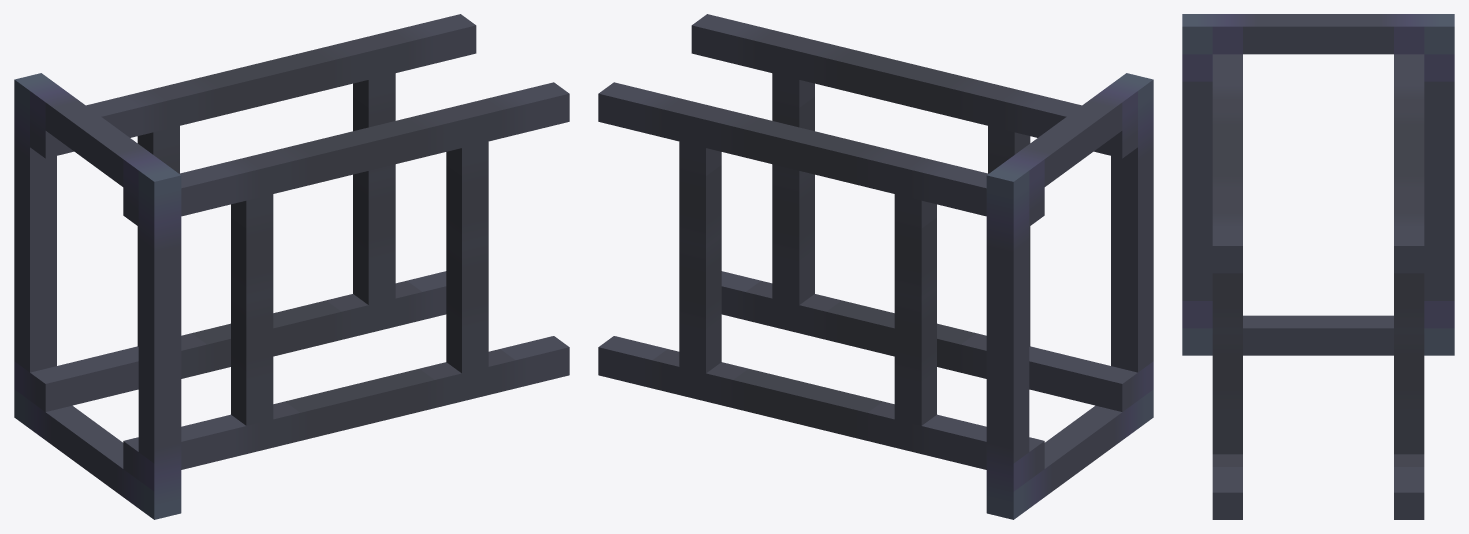
File: Beam_Chunk-1.fbx
3 views of the same model, side by side, from view 1: azimuth 30°, elevation 25°; view 2: azimuth 150°, elevation 25°; view 3: azimuth 270°, elevation 25° (orthographic). The views are drawn at different scales.
Visible parts, largest first — view 1: Beam_Chunk_1; view 2: Beam_Chunk_1; view 3: Beam_Chunk_1.
Boxes of the visible parts, bbox=[...] form: Beam_Chunk_1: bbox=[14, 14, 569, 519]; Beam_Chunk_1: bbox=[598, 14, 1153, 519]; Beam_Chunk_1: bbox=[1182, 14, 1454, 519].
Size of the model in its own units: 160 by 120 by 90.
1 material, 1 textured.
